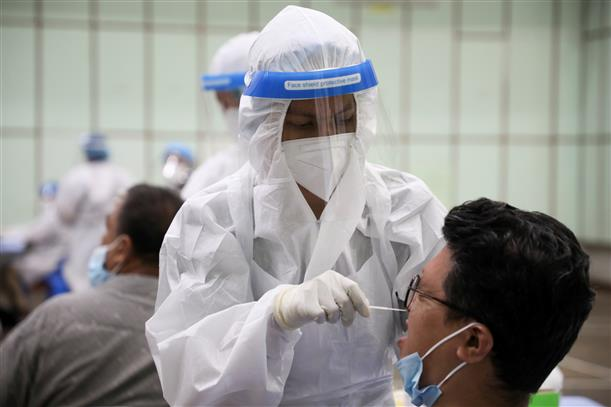Coverall: (148, 2, 459, 407), (238, 57, 405, 203)
Face_Shield: (195, 69, 251, 145)
Gloves: (266, 268, 377, 327)
mask_weared_incorrect: (394, 272, 468, 407)
with_mask: (282, 99, 360, 199)
